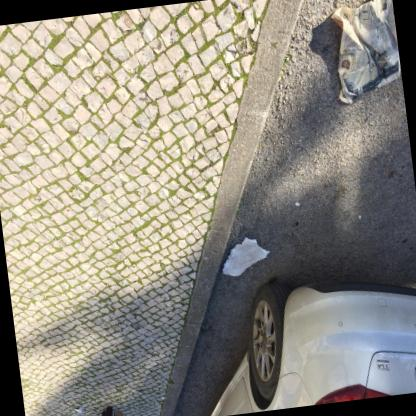Paper: (330, 0, 399, 103)
Waste: (220, 236, 269, 275), (71, 405, 81, 411), (294, 201, 299, 205)
